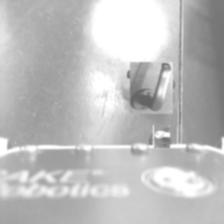Door Handle: (128, 64, 176, 112)
Lock: (152, 126, 172, 147)
